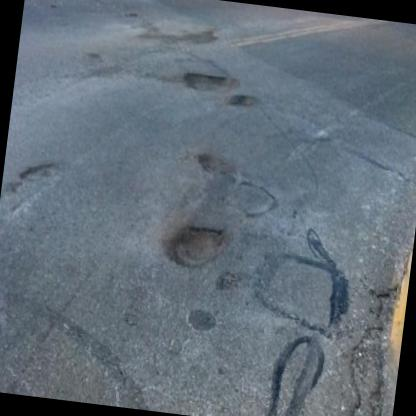pothole: (340, 282, 404, 416), (164, 218, 232, 272), (181, 66, 239, 96), (18, 156, 61, 190), (226, 90, 258, 110)
